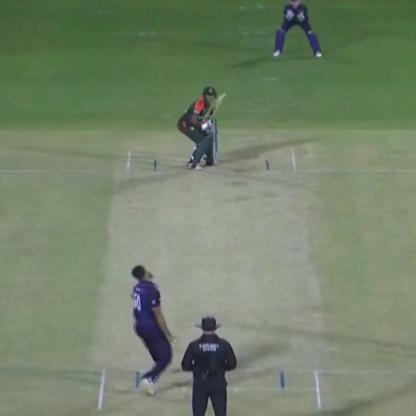bat: (198, 87, 232, 132)
pitch: (101, 144, 330, 411)
